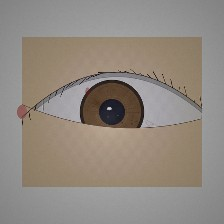hemorrhage_spot: (73, 72, 149, 133)
